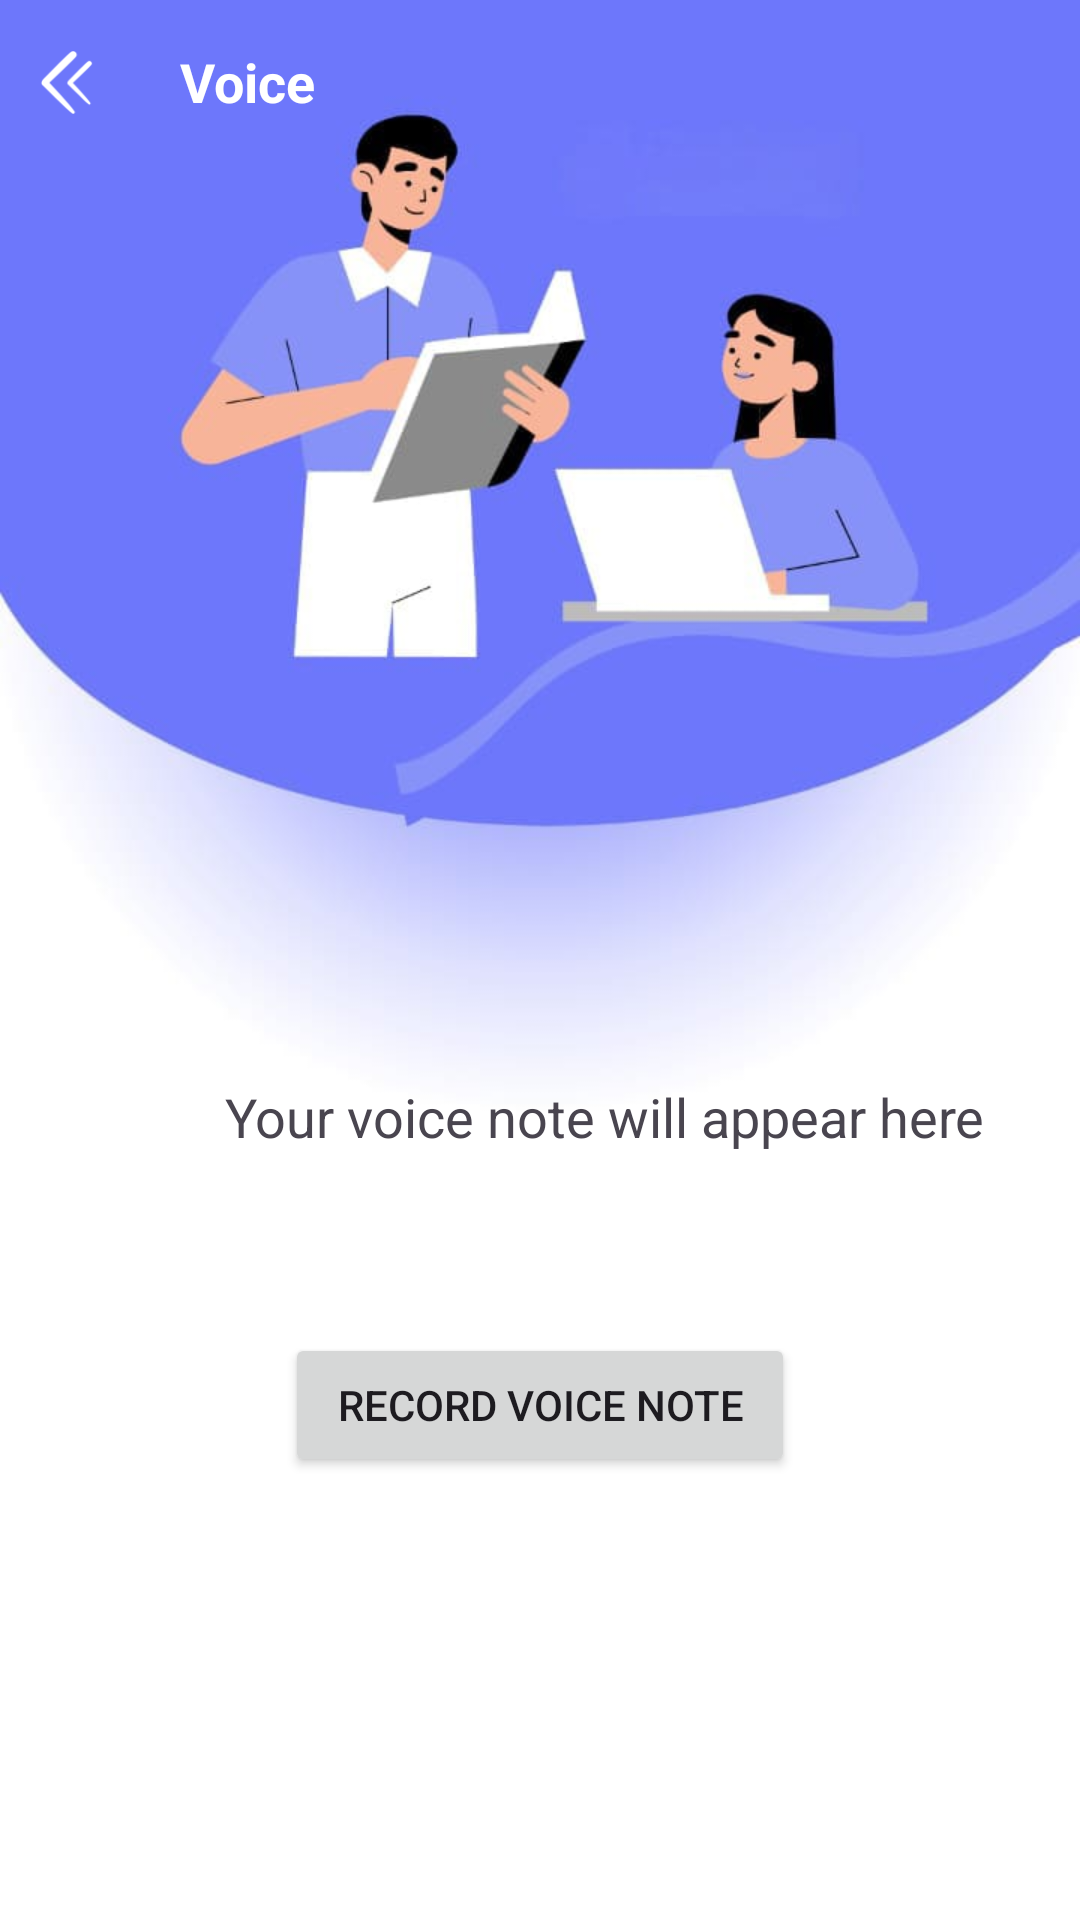

Icons on this 1080px x 1920px Android screen, each with its box as (x1, y1, x2, y2):
back: (41, 51, 92, 114)
